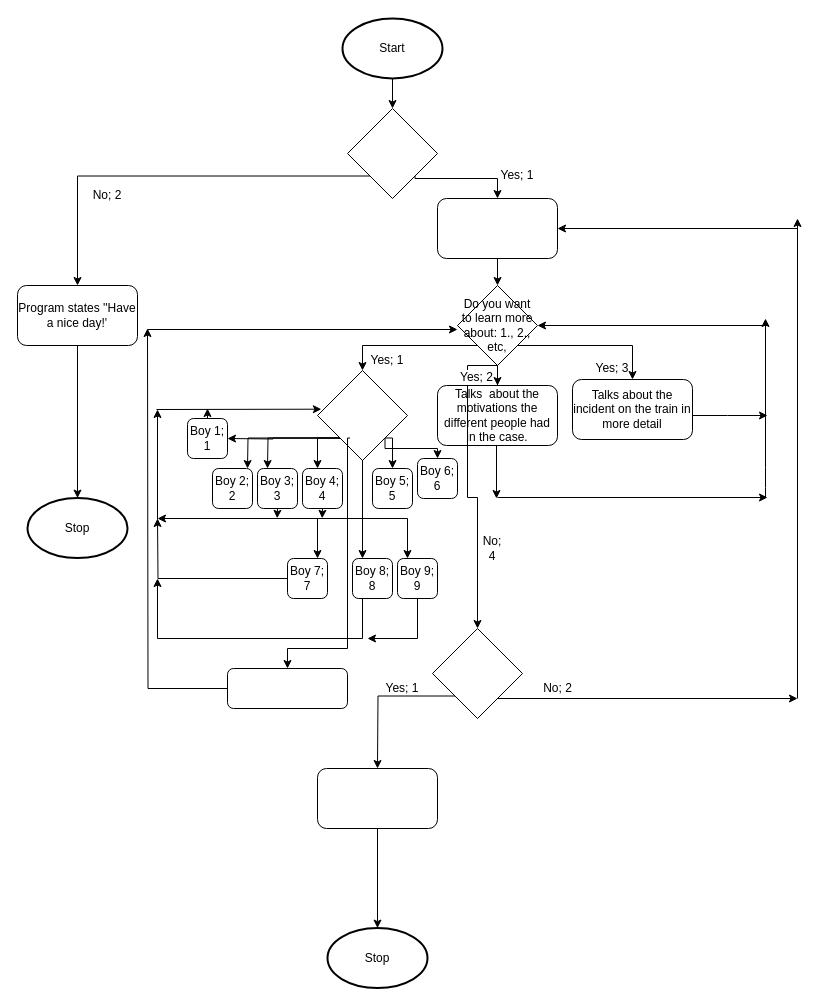
Image size: 823x1006. Some labels were removed from this diagram. Each missing label, with the box of its shape:
Do you believe you have learned enough about the Scottsboro trials?: (432, 628, 522, 718)
Do you want to learn more about Boy 1, Boy 2, etc: (316, 370, 408, 460)
Gives small background on Scottsboro case: (436, 198, 558, 258)
I have learned all that I wish about the Scottsboro boys; 10: (226, 668, 348, 708)
Program states: "Continue your fantastic day!": (316, 768, 438, 828)
Would you like to learn more about the Scottsboro Case?: (346, 108, 438, 198)
